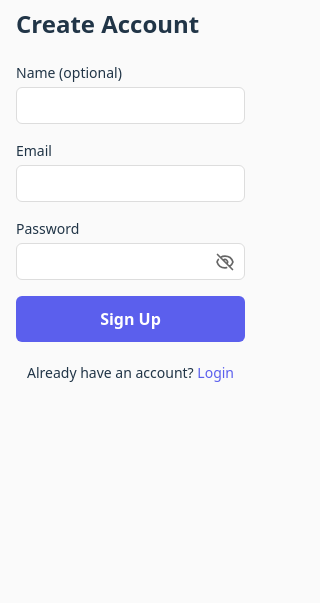
Test: Signup Page › displays error message when signup fails
Type "test@test.com" into the field labelled "Email" at (130, 184), box [16,165,245,202]
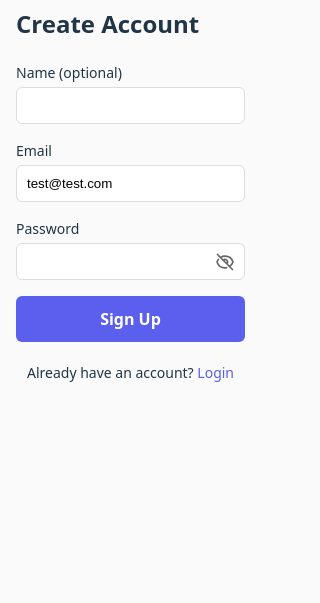
Type "TestPass123" into the password field labelled "Password" at (130, 262), box [16,243,245,280]
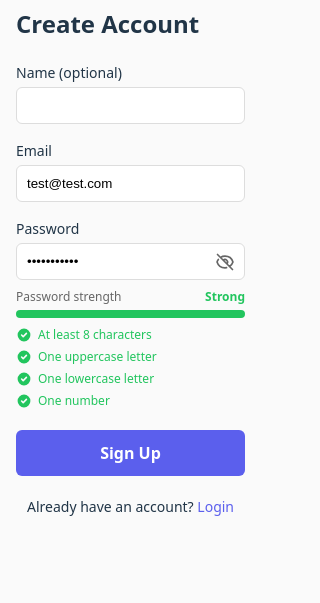
Click the button "Sign Up" at (130, 453), box [16,430,245,476]
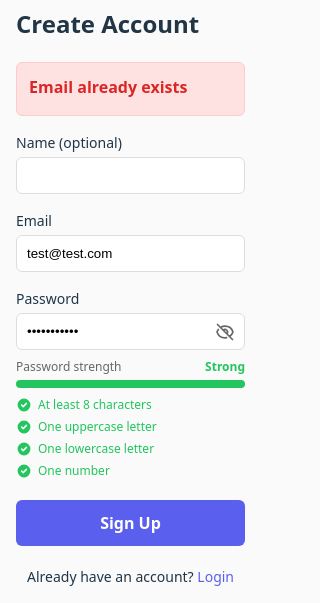
Expected: the text "Email already exists" is shown, [29,76,187,98]
